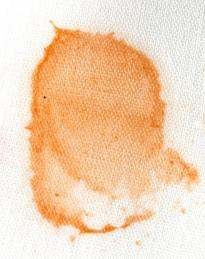gun: (26, 11, 196, 236)
